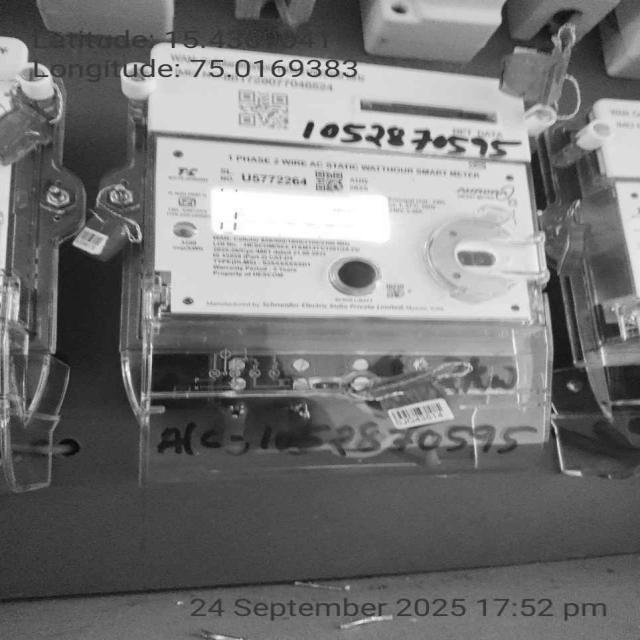meter: (153, 38, 542, 322)
